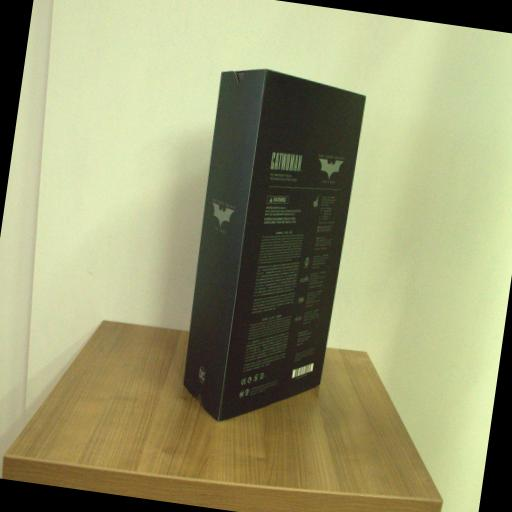catwoman: (173, 62, 369, 434)
